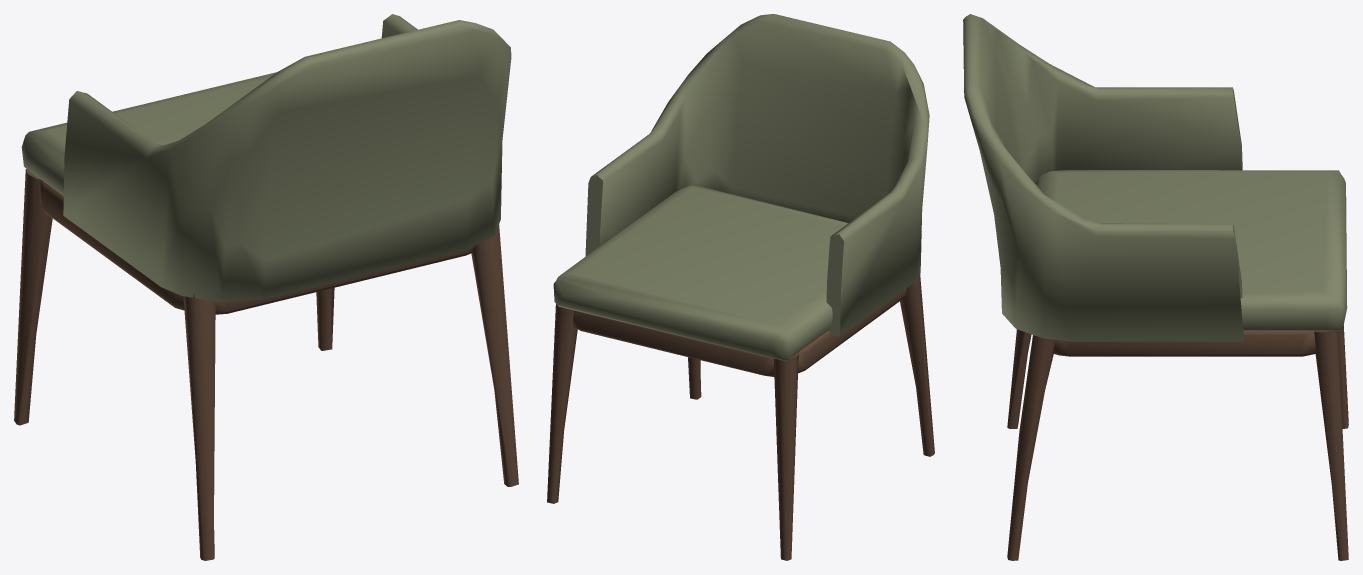
Rendered from kursi makan low poly.fbx.
The picture shows the model from 3 angles, left to right: view 1: azimuth 30°, elevation 25°; view 2: azimuth 150°, elevation 25°; view 3: azimuth 270°, elevation 25°; orthographic projection. The views are drawn at different scales.
Visible parts, largest first — view 1: Kursi_Makan; view 2: Kursi_Makan; view 3: Kursi_Makan.
Part boxes in pixels (<box>): Kursi_Makan: <box>14,14,518,560</box>; Kursi_Makan: <box>547,14,934,560</box>; Kursi_Makan: <box>963,14,1348,560</box>.
Size of the model in its own units: 57.21 by 82.38 by 64.76.
